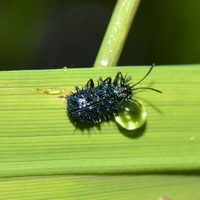insect: (61, 64, 161, 130)
